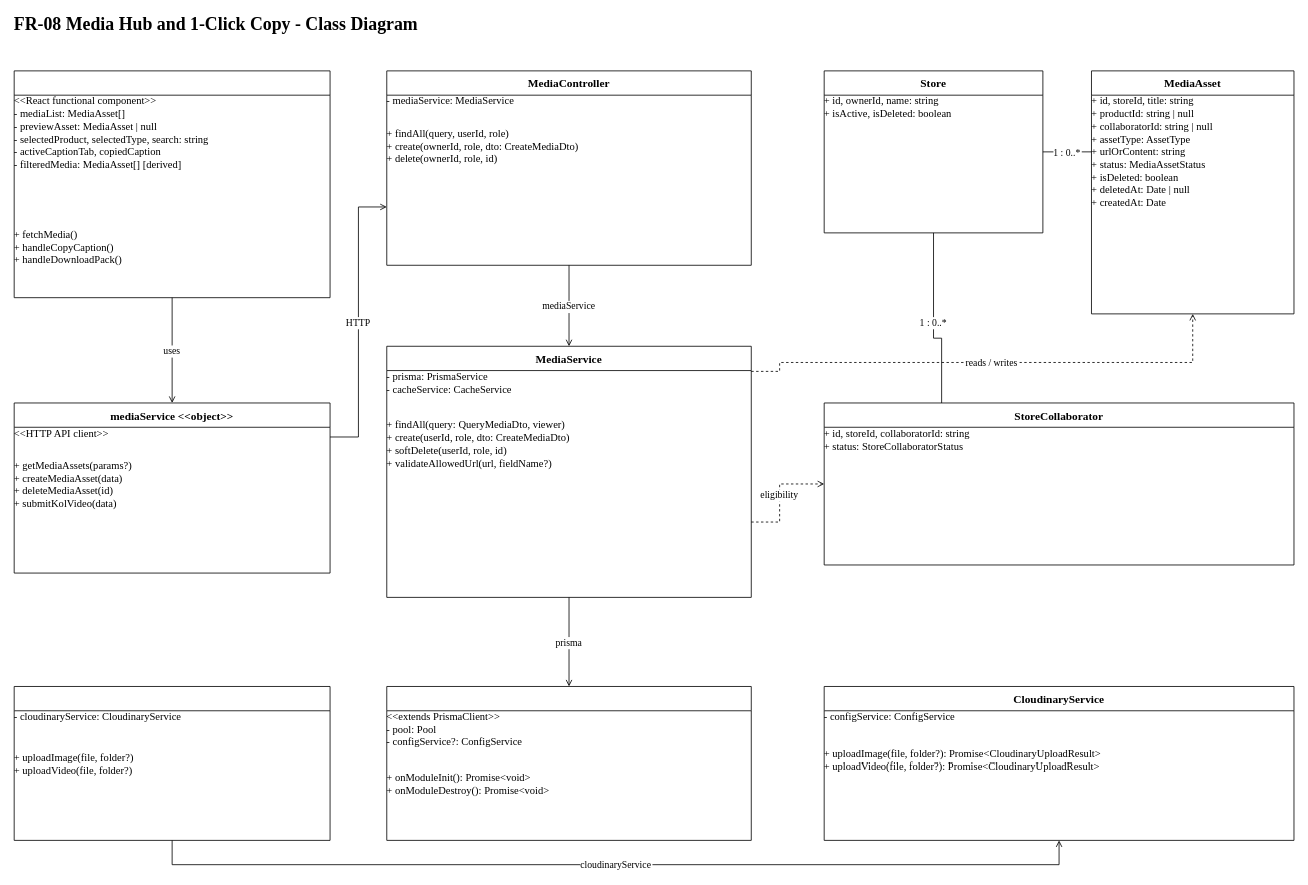
The diagram is 1308 pixels wide and 885 high, and some of its shapes have lost their labels. Each missing label, with the box of its shape:
MediaHubBrowserPage: (13, 70, 330, 298)
PrismaService: (386, 686, 751, 840)
UploadController: (13, 686, 330, 840)
